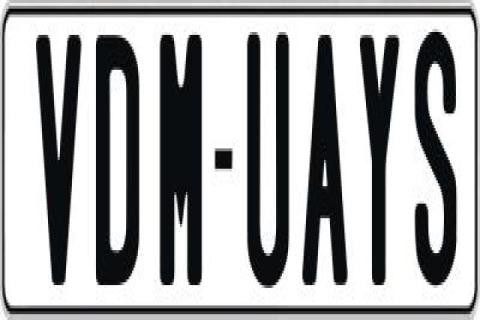A: (300, 32, 348, 296)
D: (92, 35, 136, 291)
M: (156, 32, 202, 282)
S: (416, 23, 462, 291)
U: (246, 23, 289, 280)
V: (32, 27, 82, 286)
Y: (360, 32, 400, 282)
